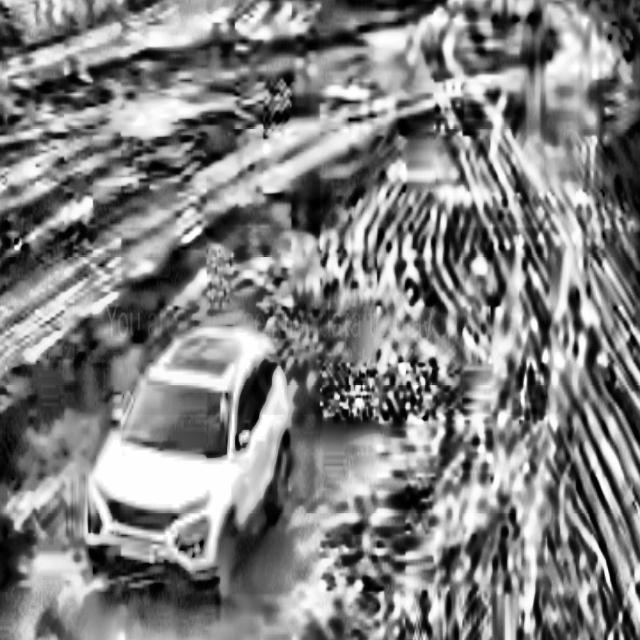light_vehicle: (76, 289, 293, 612)
